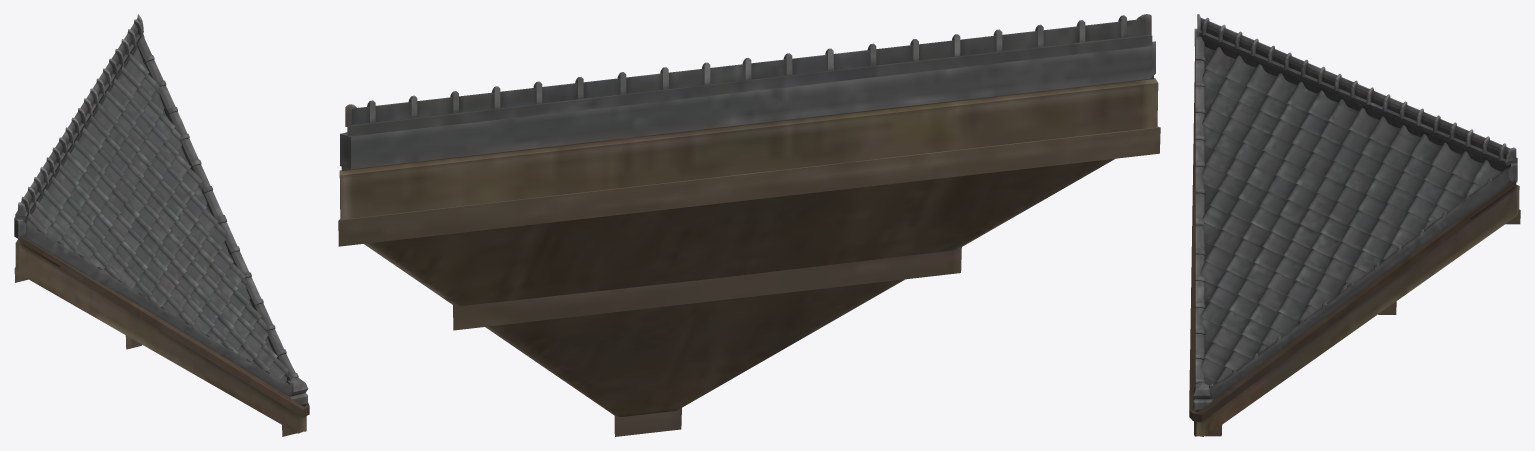
The model's file is Architecture_JapaneseStyle_SlopeRoofCornerReverse_1aa8fe.glb.
3 renders of one model, left to right at view 1: azimuth 30°, elevation 25°; view 2: azimuth 150°, elevation 25°; view 3: azimuth 270°, elevation 25°, orthographic. The views are drawn at different scales.
Size of the model in its own units: 4.12 by 3.96 by 4.12.
Materials: 1 (1 with a texture image).
